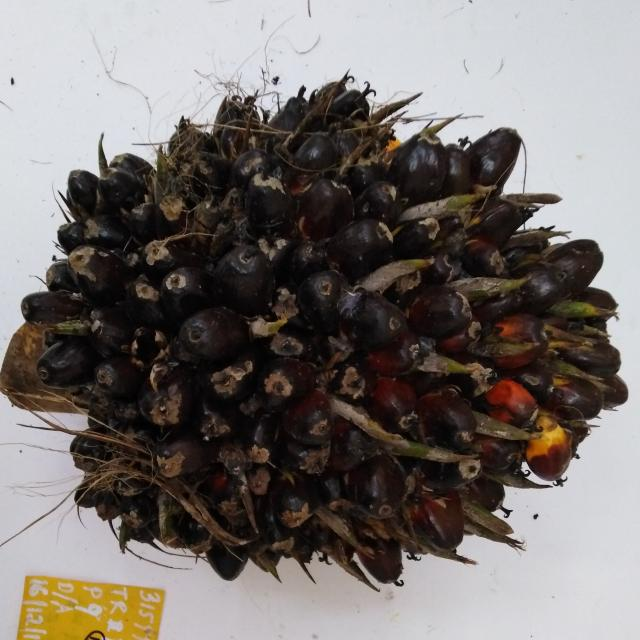FFB: (54, 94, 630, 574)
